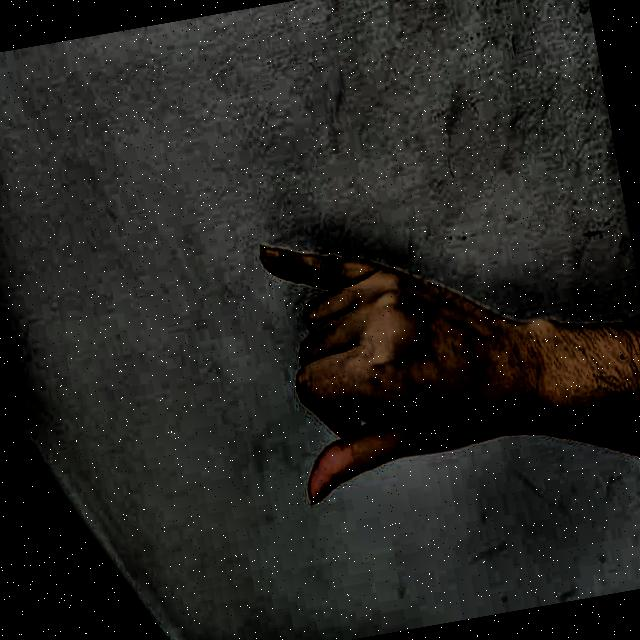Oi: (222, 170, 558, 536)
